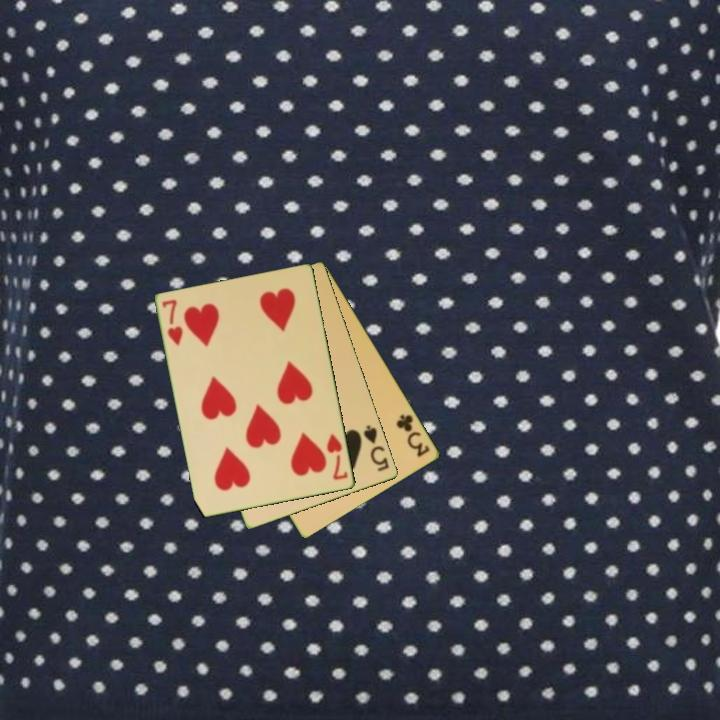3c: (393, 411, 433, 460)
5s: (360, 421, 392, 474)
7h: (323, 430, 351, 483), (159, 296, 186, 349)
